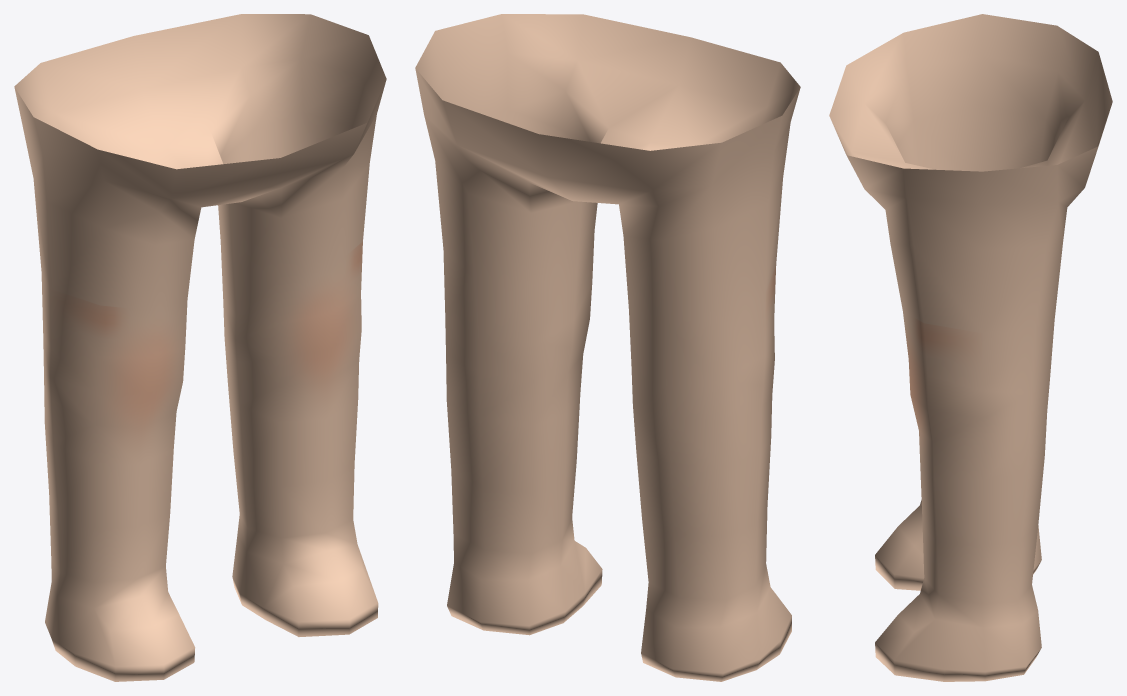
The model's file is Body_Bottom_1.fbx.
3 renders of one model, left to right at view 1: azimuth 30°, elevation 25°; view 2: azimuth 150°, elevation 25°; view 3: azimuth 270°, elevation 25°, orthographic. The views are drawn at different scales.
Visible parts, largest first — view 1: Body_Bottom_1; view 2: Body_Bottom_1; view 3: Body_Bottom_1.
Boxes of the visible parts, box(x1,y1,x2,y2) form: Body_Bottom_1: box(14, 14, 386, 681); Body_Bottom_1: box(415, 14, 800, 681); Body_Bottom_1: box(829, 14, 1112, 681).
Size of the model in its own units: 36.21 by 55.77 by 27.53.
